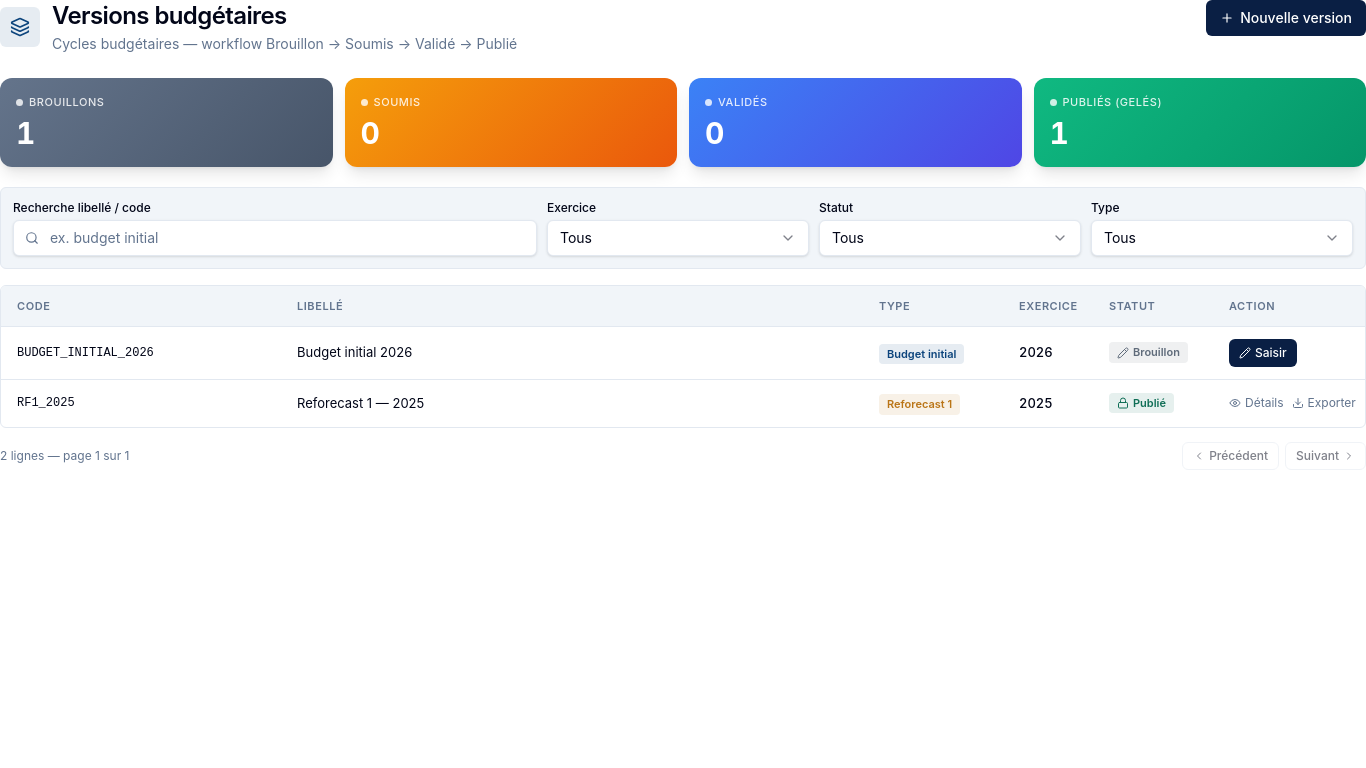
Test: VersionsPage › clic sur une ligne ouvre le drawer détail
Click the text "Budget initial 2026" at x=355, y=352, box [297,344,412,360]
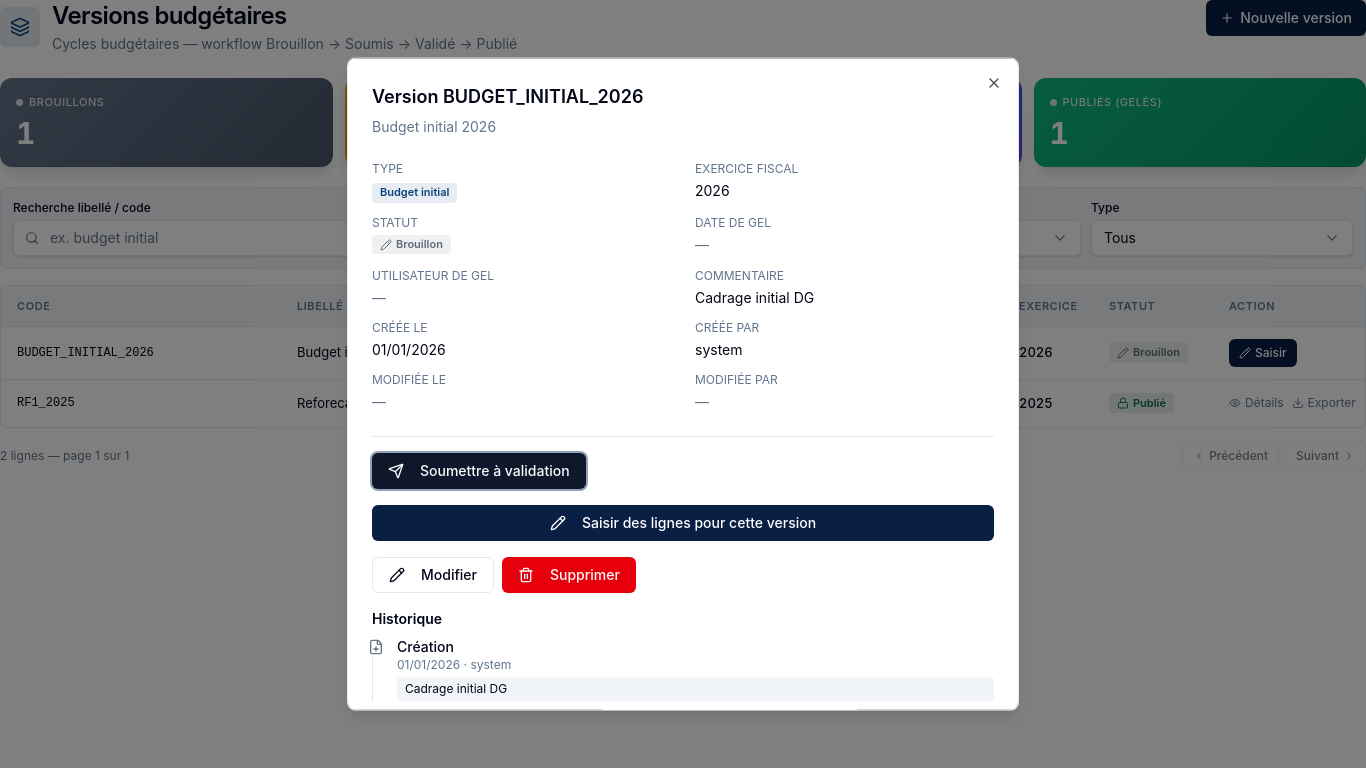
Now the heading "Version BUDGET_INITIAL_2026" is shown, box [372,86,643,107]
